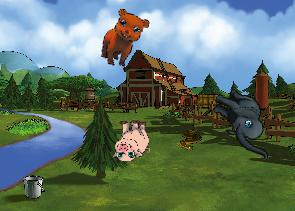bear: (98, 6, 151, 72)
elephant: (201, 84, 285, 160)
pig: (112, 119, 150, 161)
